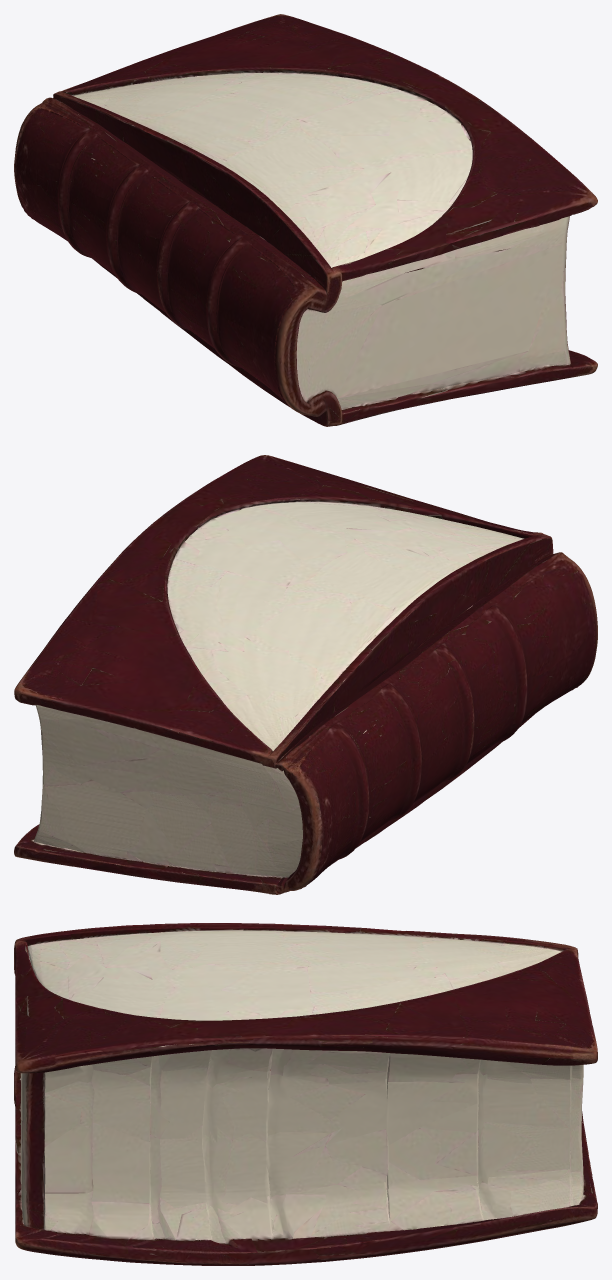
The model's file is swollen_reading_folio.glb.
3 renders of one model, top to bottom at view 1: azimuth 30°, elevation 25°; view 2: azimuth 150°, elevation 25°; view 3: azimuth 270°, elevation 25°, orthographic. The views are drawn at different scales.
Visible parts, largest first — view 1: Mesh_0; view 2: Mesh_0; view 3: Mesh_0.
Part boxes in pixels (<box>): Mesh_0: <box>14,14,597,426</box>; Mesh_0: <box>14,455,597,894</box>; Mesh_0: <box>14,923,597,1265</box>.
Bounding box in the file's own units: 0.2667 × 0.1752 × 0.4.
Materials: 1 (1 with a texture image).
